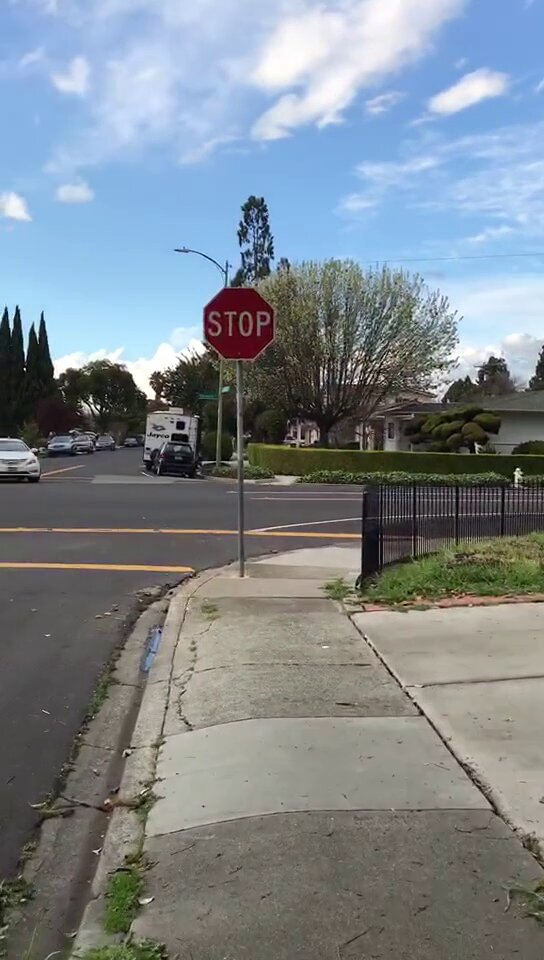stop_sign: (202, 290, 276, 358)
